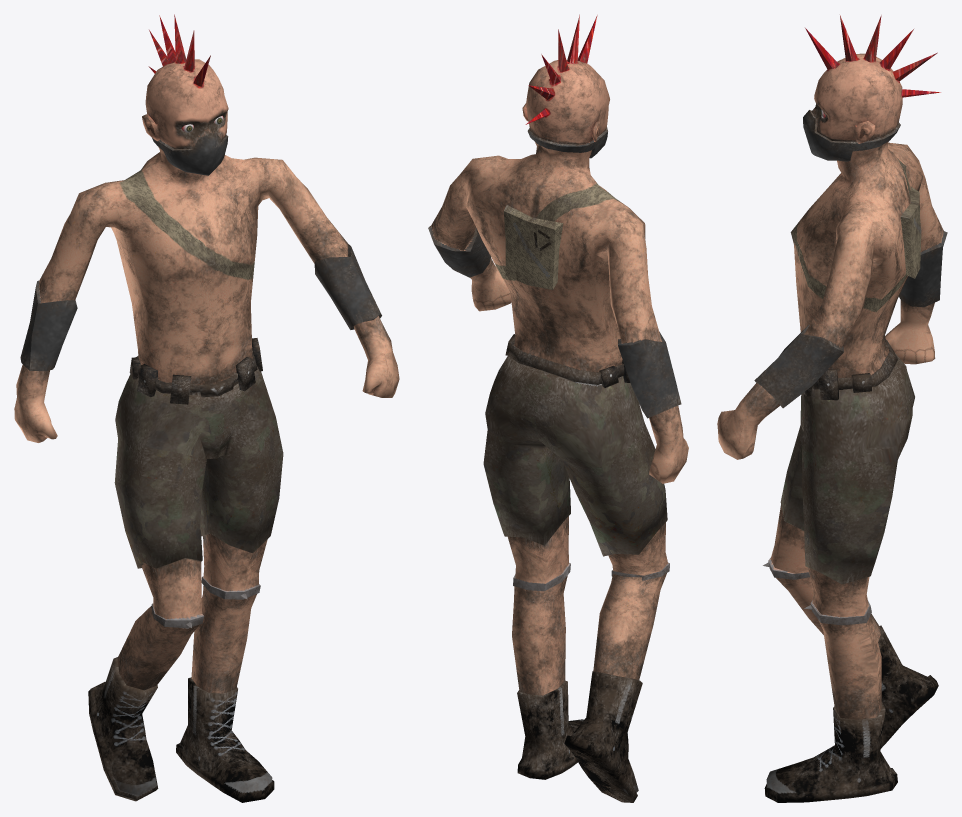
The model's file is Anim_andar_npc2.0037.obj.
3 views of the same model, side by side, from view 1: azimuth 30°, elevation 25°; view 2: azimuth 150°, elevation 25°; view 3: azimuth 270°, elevation 25° (orthographic).
Parts seen in each view (by area): view 1: Anim_andar_npc2; view 2: Anim_andar_npc2; view 3: Anim_andar_npc2.
Boxes of the visible parts, <box> form: Anim_andar_npc2: <box>14,14,399,802</box>; Anim_andar_npc2: <box>428,14,688,802</box>; Anim_andar_npc2: <box>717,15,947,802</box>.
Bounding box in the file's own units: 4.17 × 10.37 × 2.78.
